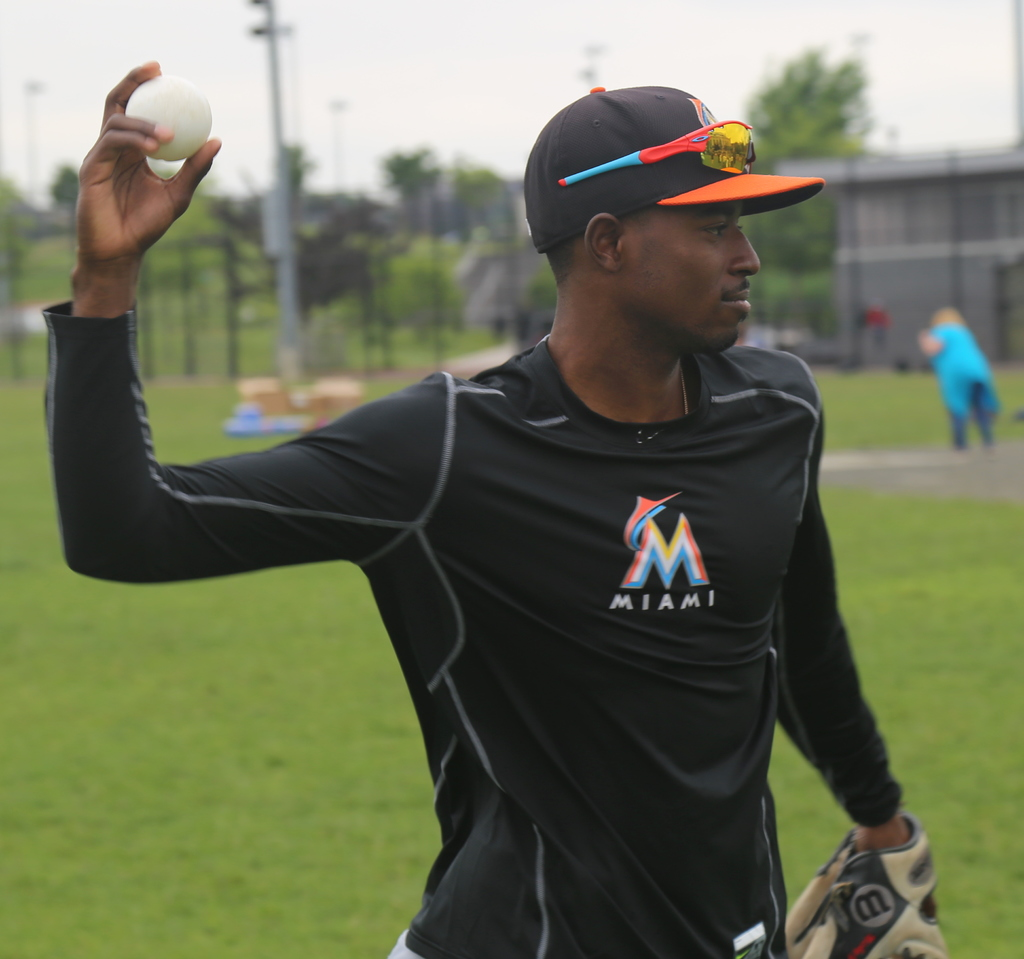Ball: (125, 73, 211, 163)
